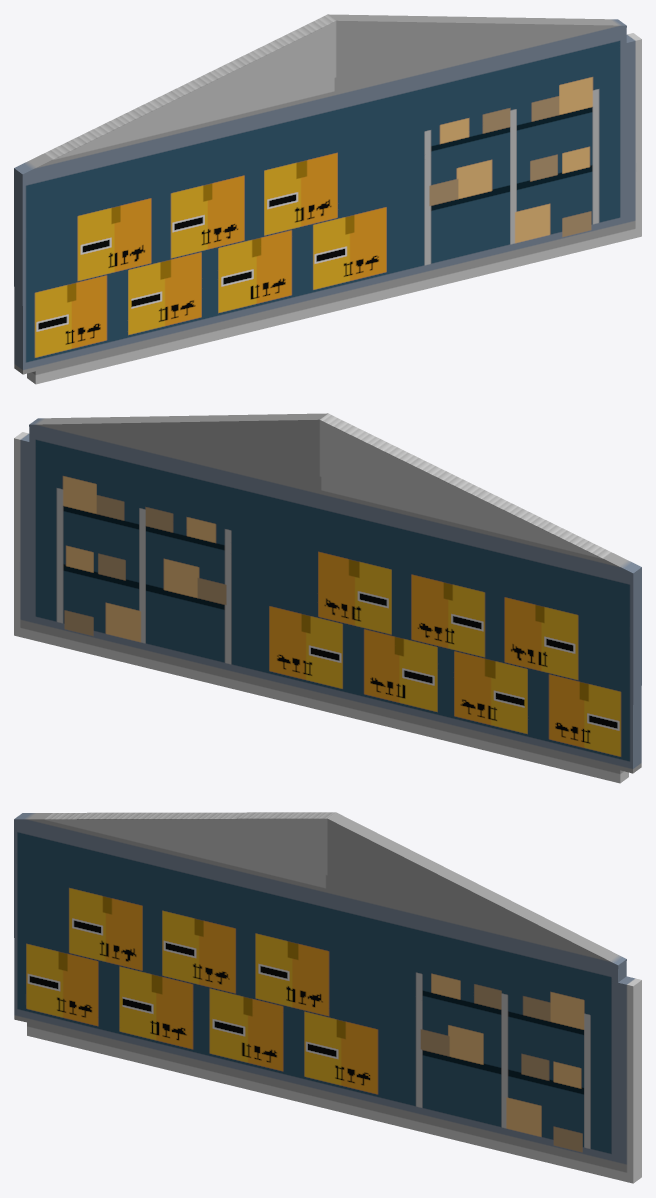
Rendered from warehouseFull.FBX.
3 renders of one model, top to bottom at view 1: azimuth 30°, elevation 25°; view 2: azimuth 150°, elevation 25°; view 3: azimuth 330°, elevation 25°, orthographic.
Visible parts, largest first — view 1: WarehouseFull; view 2: WarehouseFull; view 3: WarehouseFull.
Boxes of the visible parts, x1=… form: WarehouseFull: x1=14, y1=14, x2=641, y2=384; WarehouseFull: x1=14, y1=413, x2=641, y2=783; WarehouseFull: x1=14, y1=812, x2=641, y2=1183.
Size of the model in its own units: 52.87 by 23.69 by 1.28.
Materials: 1 (1 with a texture image).
